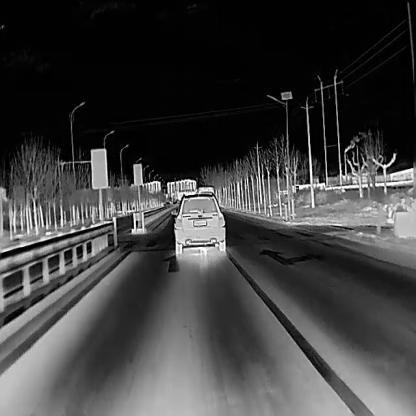car: (170, 190, 226, 254)
